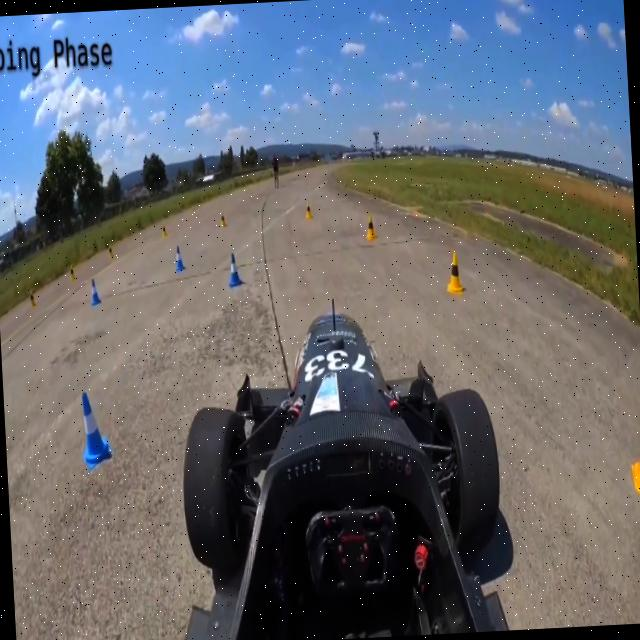blue_cone: (73, 386, 115, 468), (224, 249, 243, 291), (172, 244, 189, 272)
yellow_cone: (439, 245, 472, 308), (362, 210, 378, 243), (300, 196, 316, 228)
